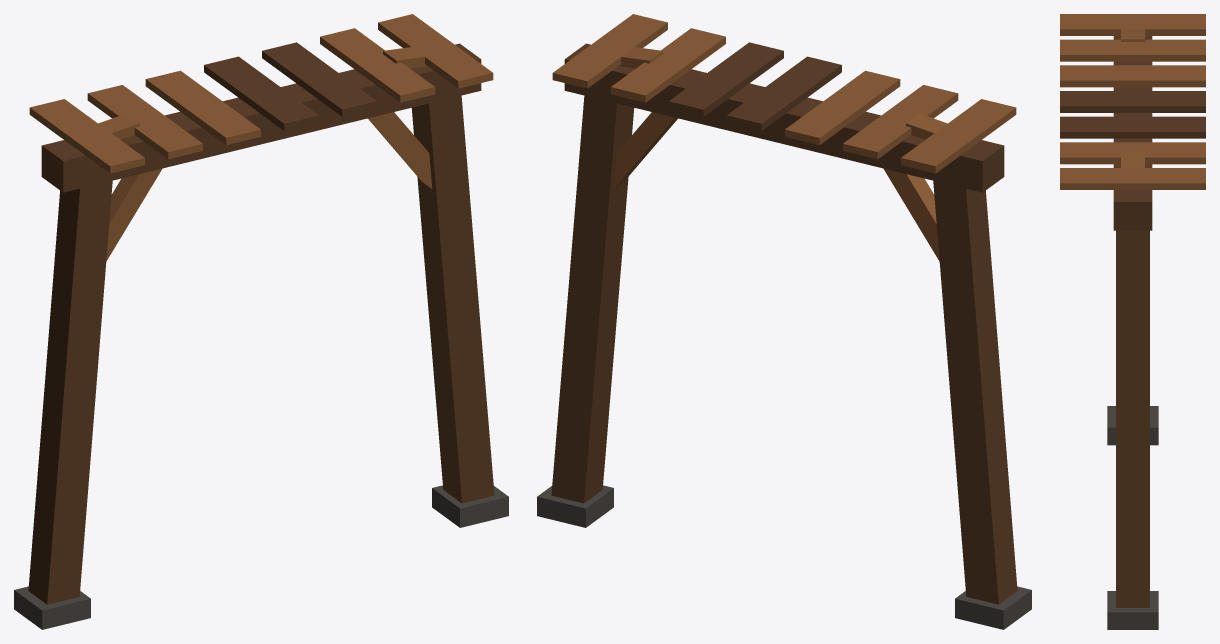
The model's file is mine_support_braced.glb.
The picture shows the model from 3 angles, left to right: view 1: azimuth 30°, elevation 25°; view 2: azimuth 150°, elevation 25°; view 3: azimuth 270°, elevation 25°; orthographic projection. The views are drawn at different scales.
Visible parts, largest first — view 1: mine_support_braced; view 2: mine_support_braced; view 3: mine_support_braced.
Part boxes in pixels (box(x1,y1,x2,y2)): mine_support_braced: box(14, 14, 508, 629); mine_support_braced: box(537, 14, 1031, 629); mine_support_braced: box(1060, 14, 1205, 629).
Size of the model in its own units: 4.02 by 3.92 by 1.2.
